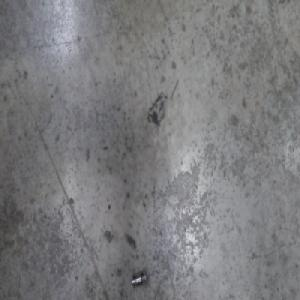Bolt: (131, 269, 147, 290)
